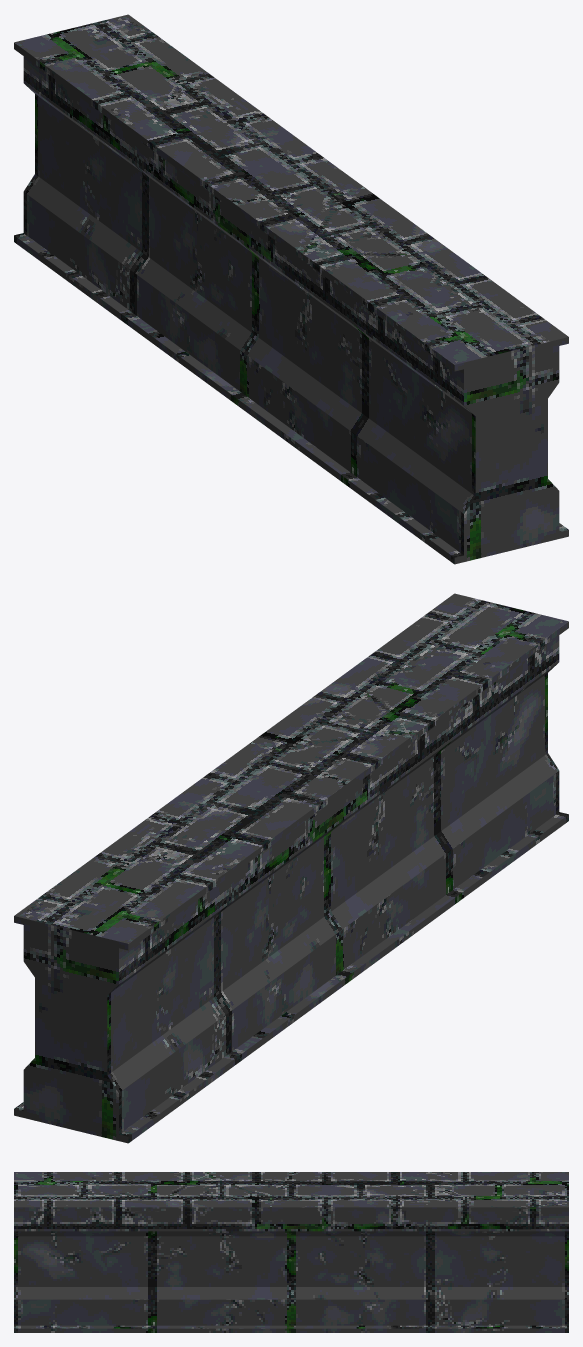
Rendered from wall_1m_01.gltf.
3 views of the same model, one above another, from view 1: azimuth 30°, elevation 25°; view 2: azimuth 150°, elevation 25°; view 3: azimuth 270°, elevation 25° (orthographic). The views are drawn at different scales.
Visible parts, largest first — view 1: wall_1m_01; view 2: wall_1m_01; view 3: wall_1m_01.
Boxes of the visible parts, <box> form: wall_1m_01: <box>14,14,568,564</box>; wall_1m_01: <box>14,593,568,1143</box>; wall_1m_01: <box>14,1172,568,1332</box>.
Size of the model in its own units: 0.6 by 1 by 4.
Materials: 1 (1 with a texture image).
